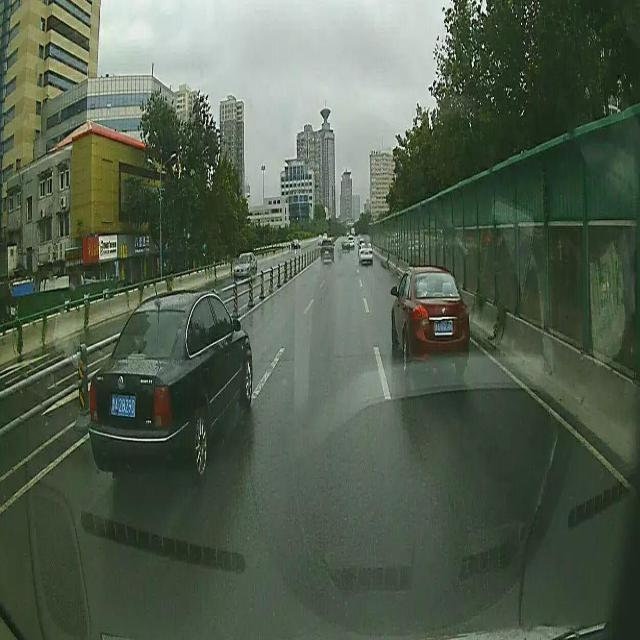car: (88, 292, 252, 476), (390, 268, 468, 370), (356, 241, 372, 265), (321, 236, 334, 264)
